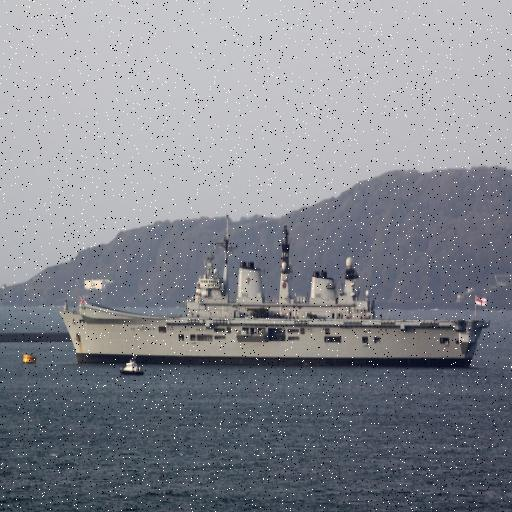Portanaves: (56, 217, 492, 371)
